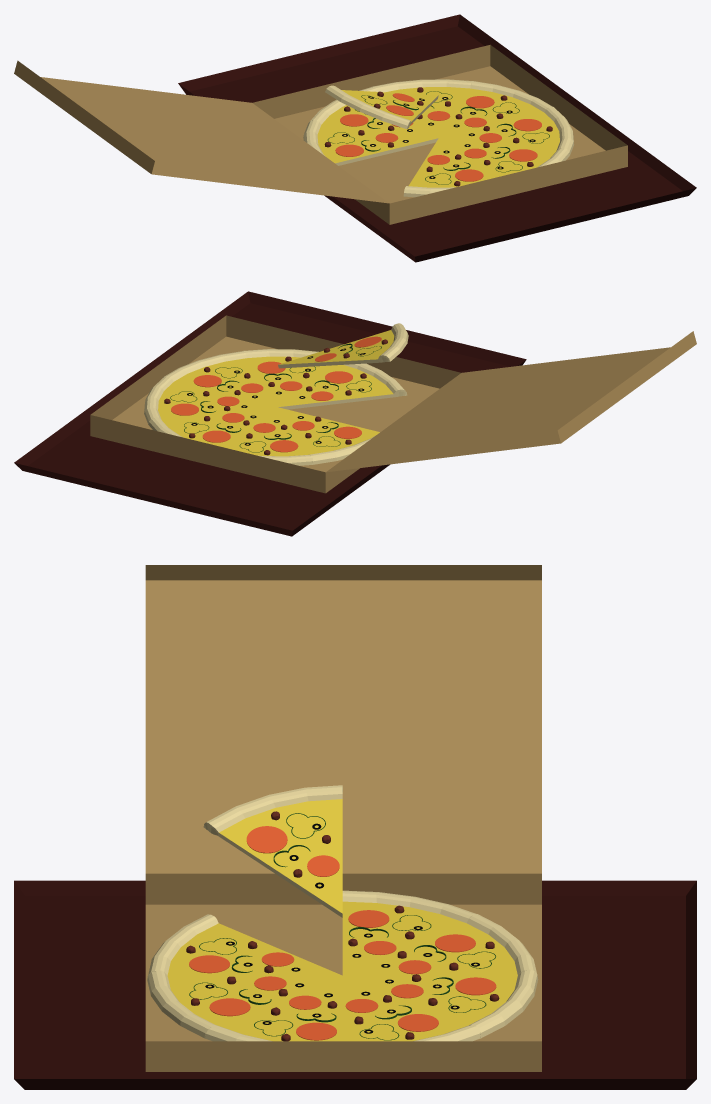
The model's file is Pizza.glb.
The picture shows the model from 3 angles, top to bottom: view 1: azimuth 30°, elevation 25°; view 2: azimuth 150°, elevation 25°; view 3: azimuth 270°, elevation 25°; orthographic projection. The views are drawn at different scales.
Parts seen in each view (by area): view 1: Box, Plate, Dou.006; view 2: Box, Plate, Dou.006; view 3: Box, Plate, Dou.006.
Part boxes in pixels (<box>): Box: <box>14,44,627,224</box>; Plate: <box>178,14,696,262</box>; Dou.006: <box>303,79,574,197</box>; Box: <box>90,315,696,493</box>; Plate: <box>14,291,526,536</box>; Dou.006: <box>144,323,408,465</box>; Box: <box>145,565,541,1071</box>; Plate: <box>14,880,696,1089</box>; Dou.006: <box>147,785,538,1041</box>.
Bounding box in the file's own units: 4.2 × 0.9972 × 3.45.
